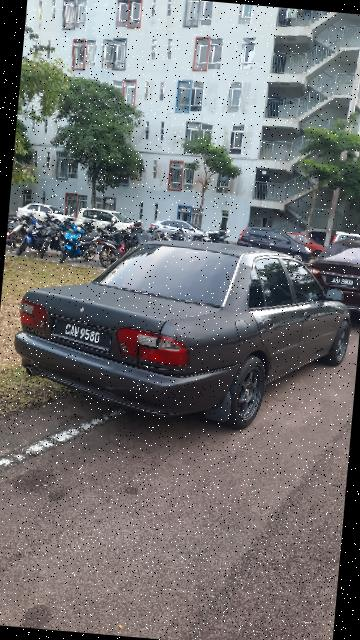License_Plate: (47, 312, 118, 357)
car: (8, 223, 360, 441)
